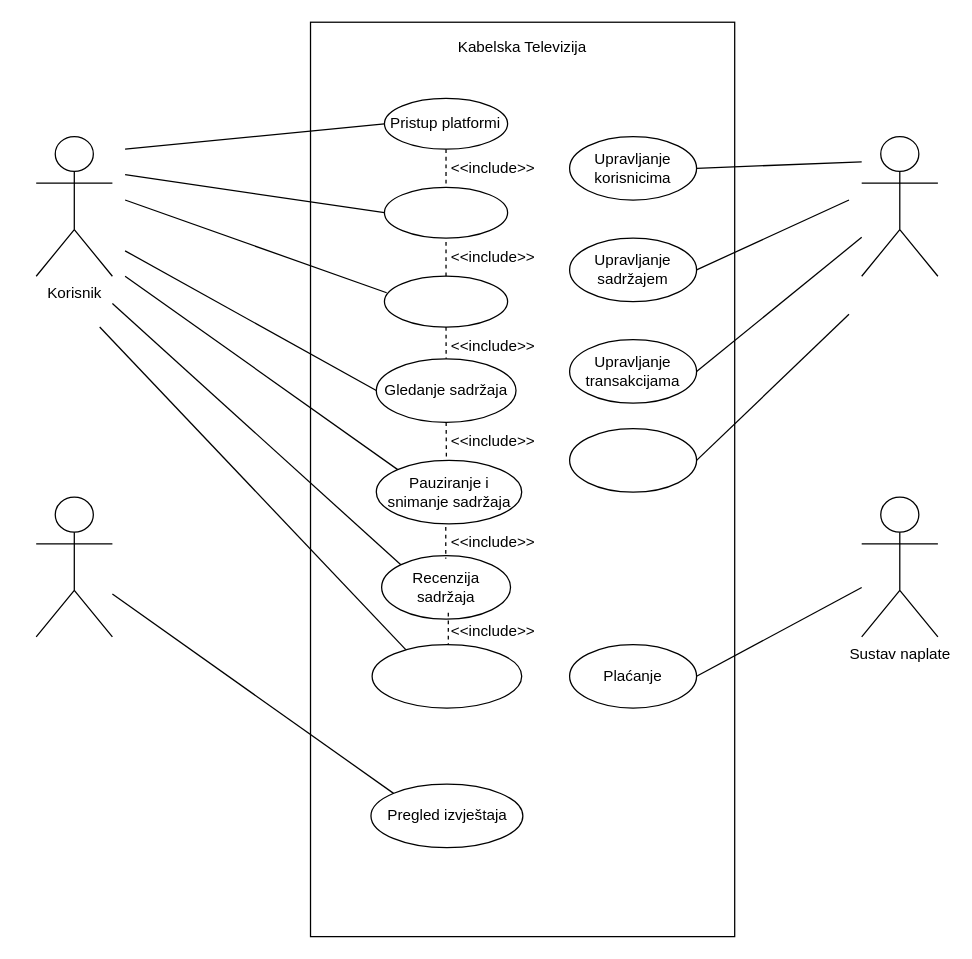
The diagram is 972 pixels wide and 959 high, and some of its shapes have lost their labels. The centre of each missing label's shape, as x and y in pixels:
Administrator: (x=899, y=205)
Kupovina premium sadržaja: (x=446, y=675)
Pretraživanje kanala: (x=445, y=212)
Pretraživanje sadržaja: (x=445, y=301)
Upravljanje recenzijama: (x=632, y=459)
Vlasnik sustava: (x=73, y=566)
